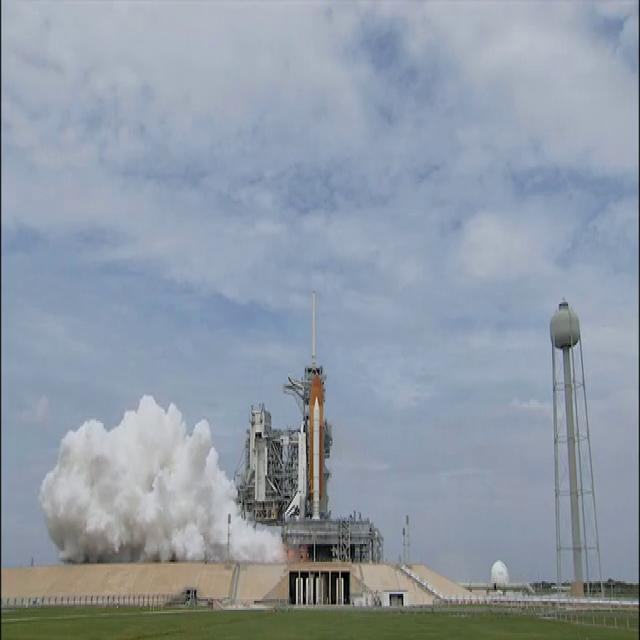smoke: (242, 523, 281, 554), (173, 496, 203, 536), (82, 460, 108, 501), (112, 465, 140, 503), (136, 446, 162, 486), (166, 446, 188, 490), (78, 424, 104, 460), (194, 471, 213, 520), (44, 478, 66, 516), (188, 432, 210, 468), (128, 408, 148, 444), (218, 498, 238, 534), (184, 538, 213, 562), (91, 504, 113, 534), (144, 498, 166, 528), (164, 407, 183, 440), (68, 478, 86, 512), (63, 442, 81, 475), (144, 536, 175, 555), (53, 518, 74, 546), (110, 429, 128, 459), (122, 512, 137, 548), (212, 462, 228, 494), (491, 560, 508, 590), (148, 397, 160, 423)
